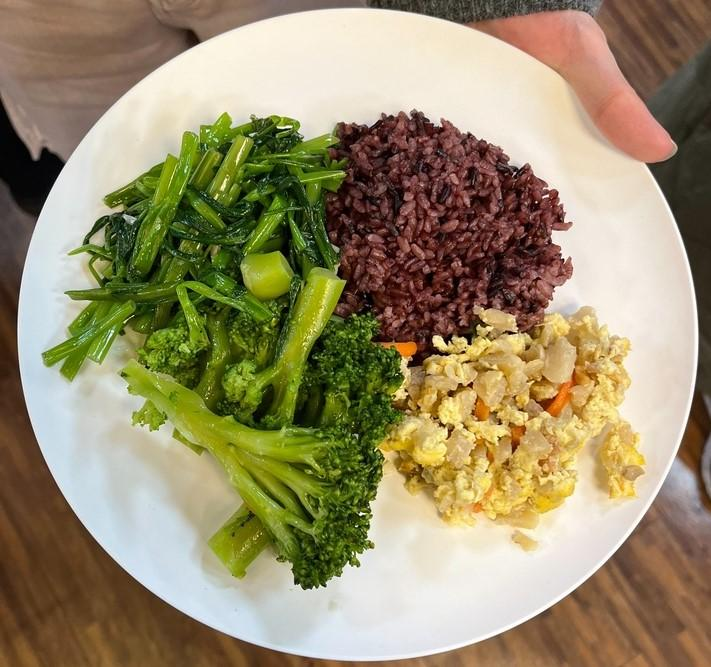big fried chicken leg: (14, 4, 711, 656)
braised fish: (325, 109, 574, 330)
braised fish fillet: (116, 300, 393, 602), (50, 105, 329, 366), (393, 307, 656, 534)
